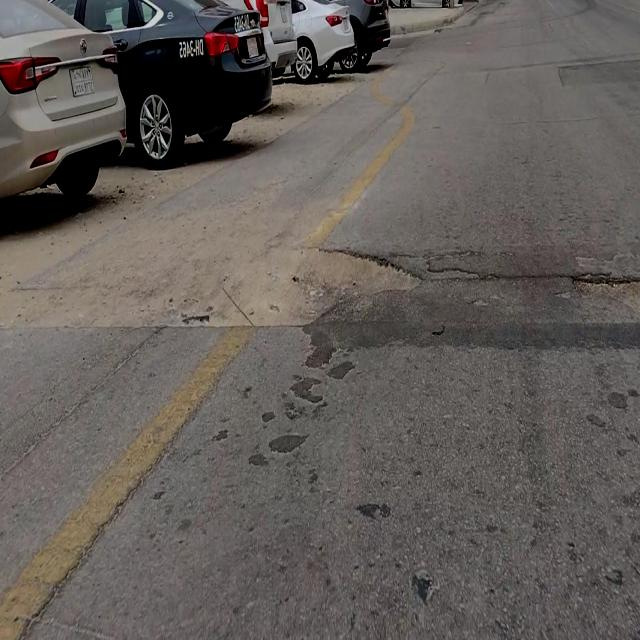Potholes: (237, 245, 425, 328), (571, 273, 640, 314)
